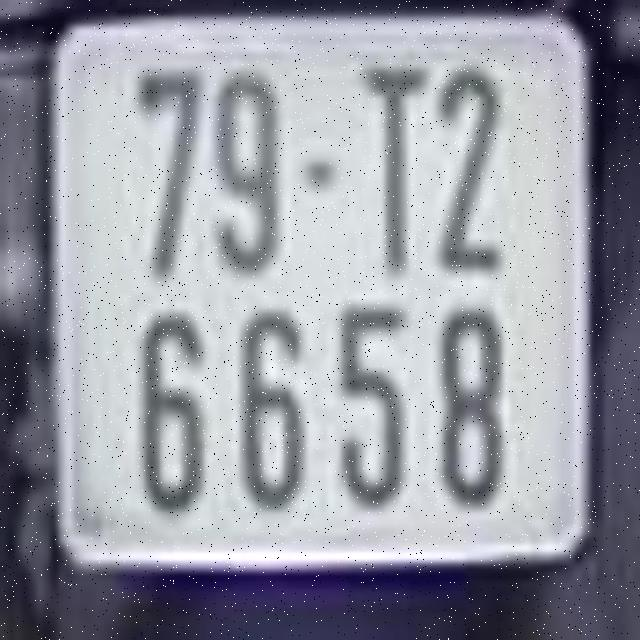2: (436, 64, 506, 272)
5: (336, 297, 409, 509)
6: (238, 304, 307, 511), (140, 309, 208, 514)
7: (134, 67, 202, 279)
8: (435, 302, 509, 510)
9: (212, 66, 282, 274)
T: (359, 65, 429, 273)
